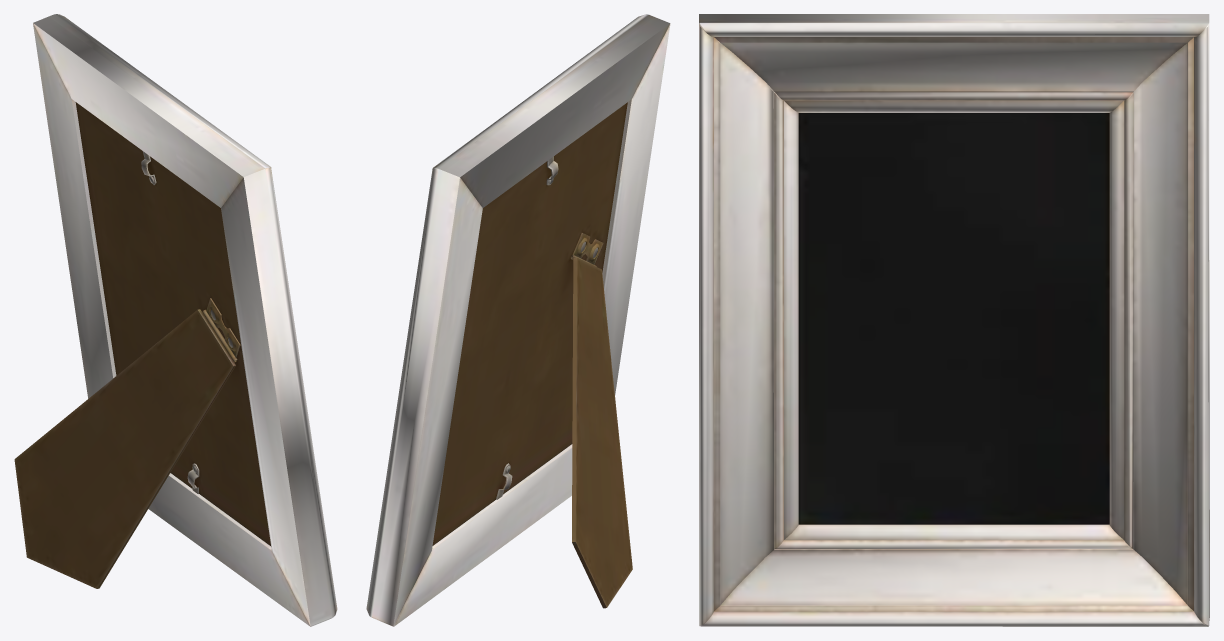
Rendered from standing_picture_frame_02.glb.
The picture shows the model from 3 angles, left to right: view 1: azimuth 30°, elevation 25°; view 2: azimuth 150°, elevation 25°; view 3: azimuth 270°, elevation 25°; orthographic projection. The views are drawn at different scales.
Parts seen in each view (by area): view 1: standing_picture_frame_02; view 2: standing_picture_frame_02; view 3: standing_picture_frame_02.
Part boxes in pixels (box(x1,y1,x2,y2)): standing_picture_frame_02: box(14, 14, 337, 626); standing_picture_frame_02: box(366, 14, 670, 626); standing_picture_frame_02: box(699, 14, 1209, 626).
Bounding box in the file's own units: 0.1021 × 0.2663 × 0.2166.
Materials: 3 (3 with a texture image).
